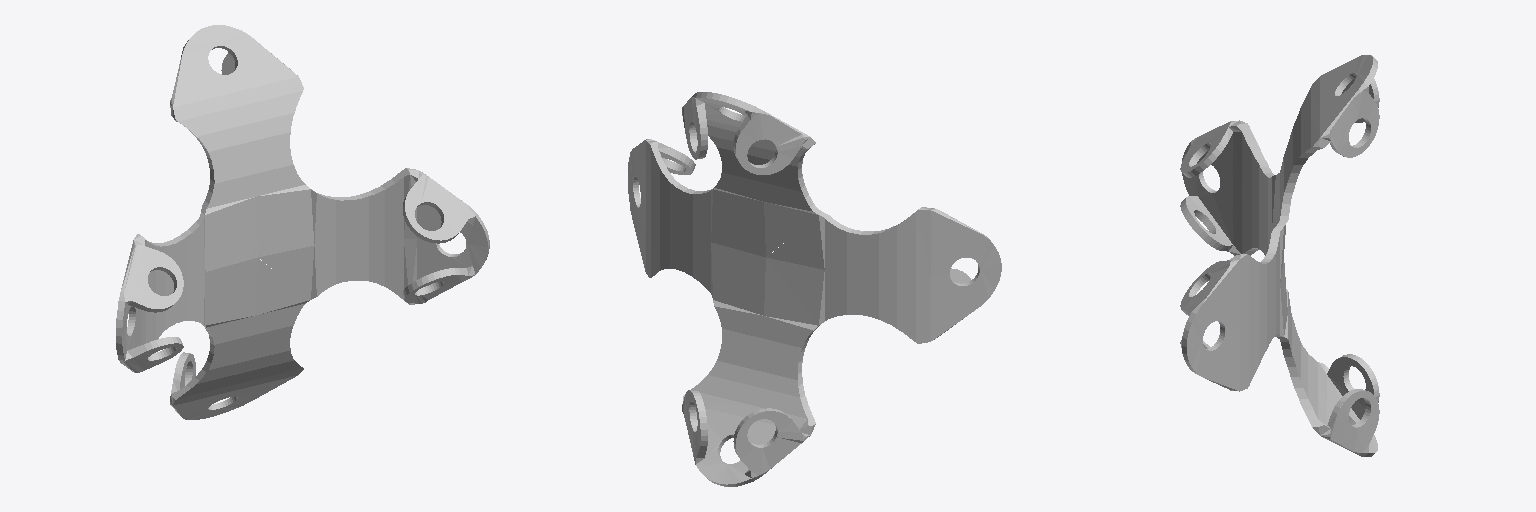
File: press.obj
3 views of the same model, side by side, from view 1: azimuth 30°, elevation 25°; view 2: azimuth 150°, elevation 25°; view 3: azimuth 270°, elevation 25° (orthographic).
Parts seen in each view (by area): view 1: press; view 2: press; view 3: press.
Boxes of the visible parts, x1,y1,x2,y2 form: press: [116, 25, 489, 419]; press: [628, 92, 1001, 486]; press: [1180, 55, 1379, 456].
Size of the model in its own units: 3.62 by 3.62 by 1.67.